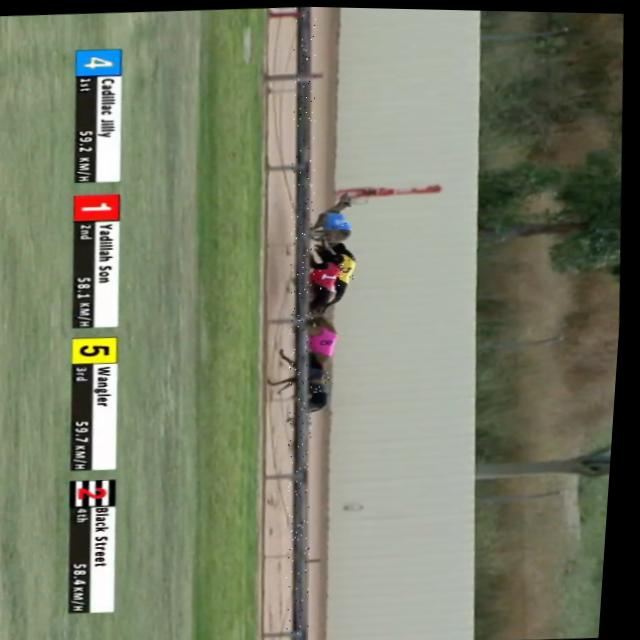dog_eight: (313, 333, 343, 351)
dog_five: (337, 255, 359, 279)
dog_four: (324, 213, 356, 228)
dog_one: (314, 267, 343, 289)
dog_seven: (311, 368, 335, 392)
rail: (293, 6, 316, 640)
